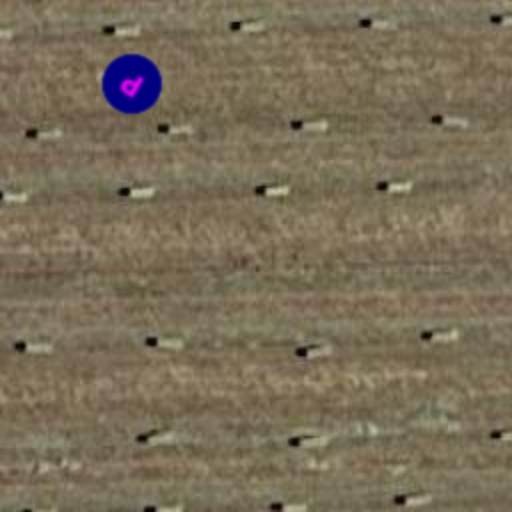circle: (90, 42, 174, 126)
